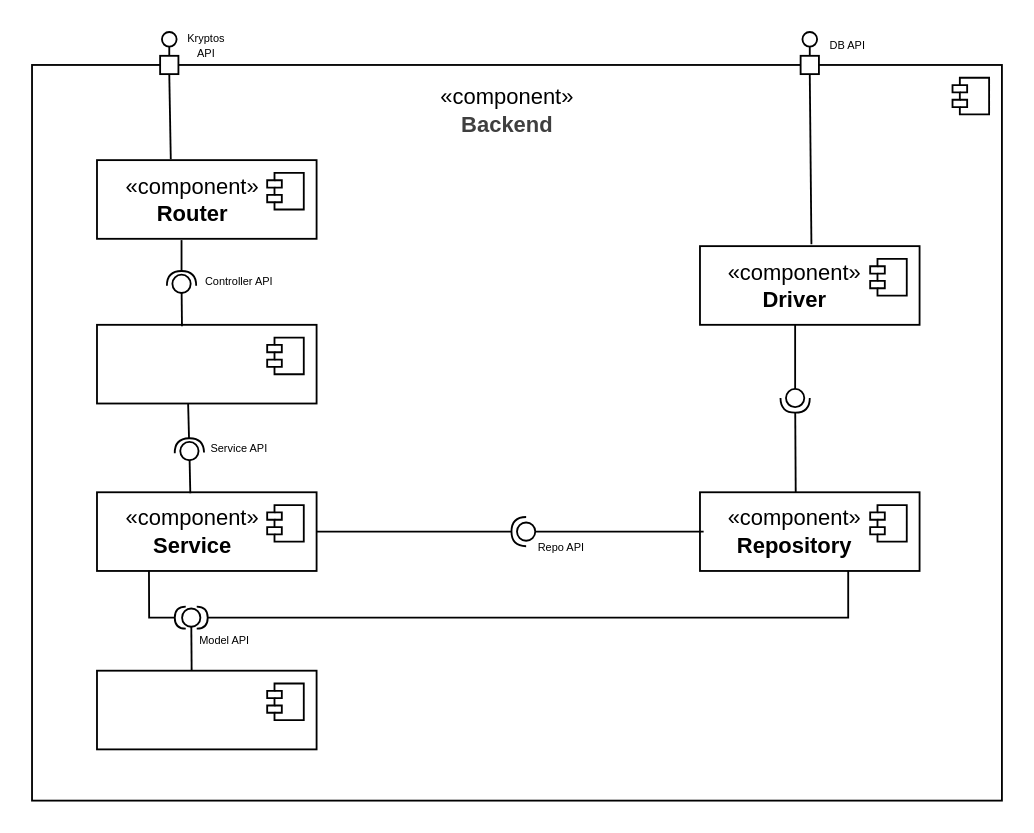
The diagram is 1034 pixels wide and 833 high, and some of its shapes have lost their labels. The centre of each missing label's shape, as x and y in pixels:
«component » Controller: the point at 206,363
«component » Model: the point at 206,709
